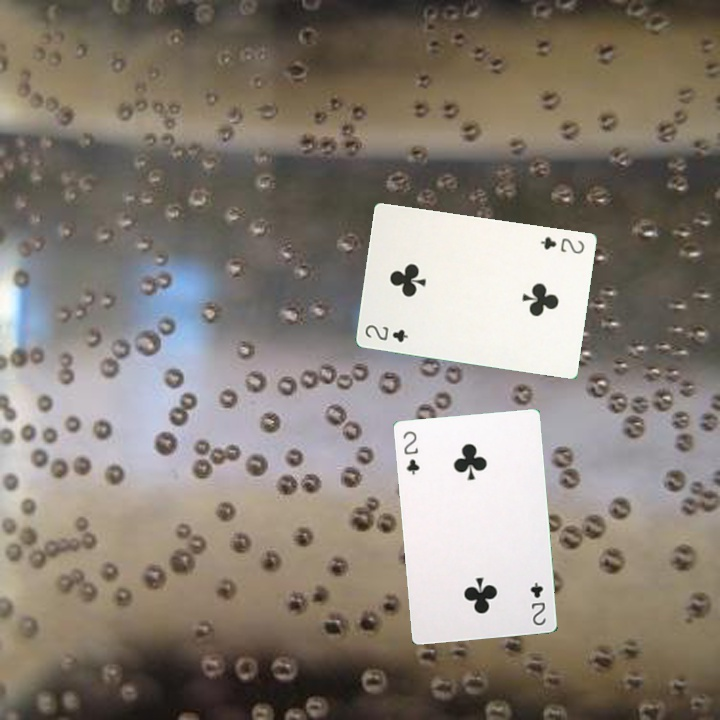2c: (361, 320, 411, 344), (536, 233, 587, 256), (399, 427, 422, 477), (526, 578, 548, 628)
